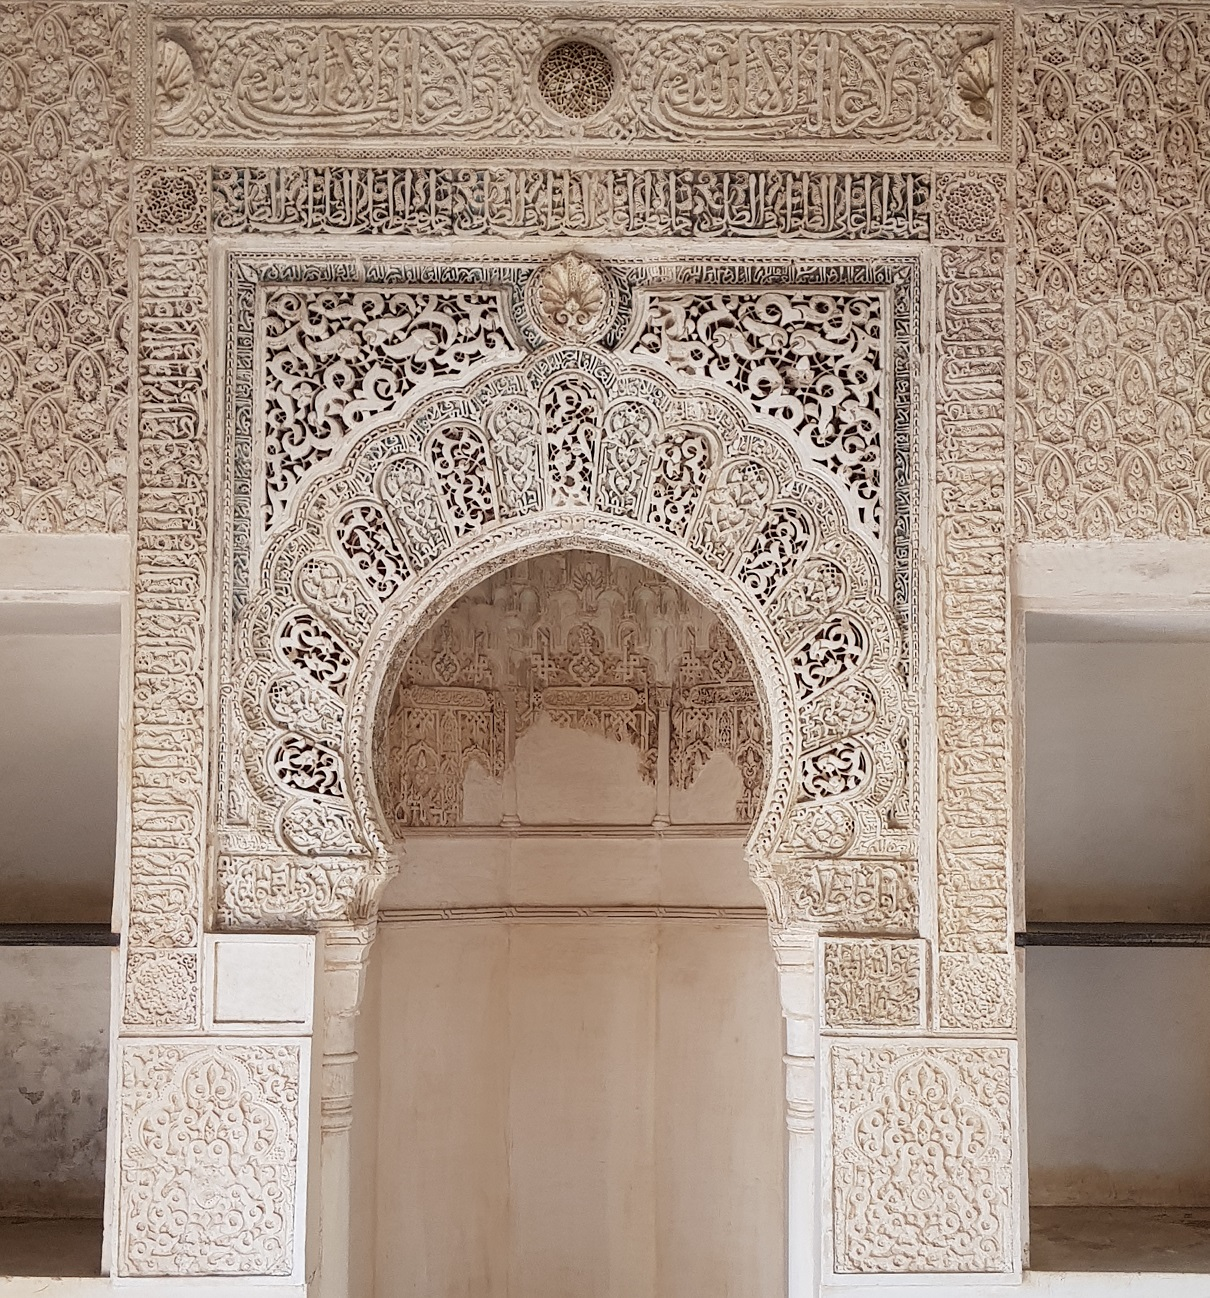arco-herradura: (304, 489, 820, 948)
